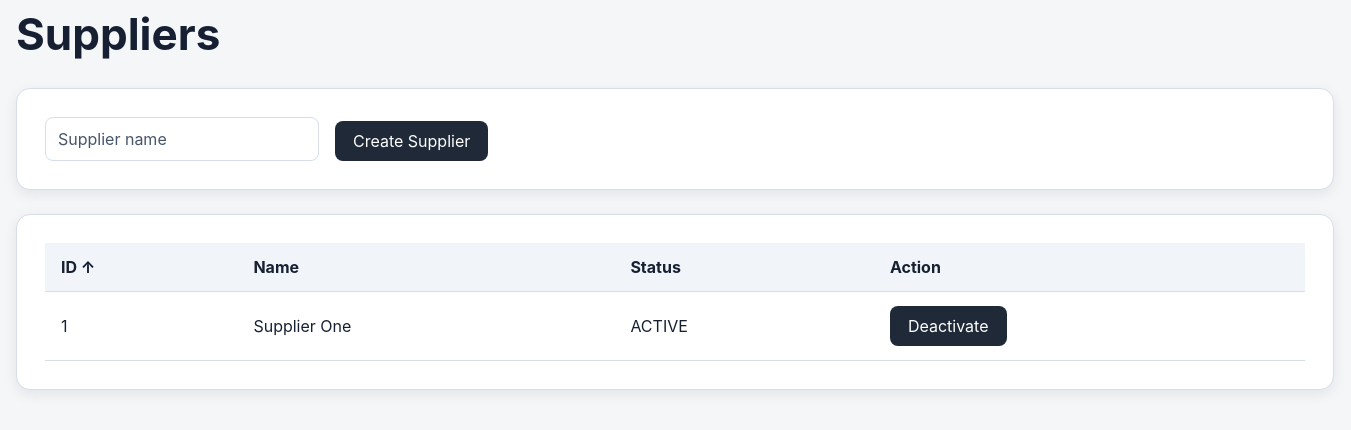
it: SuppliersPage › shows conflict error
Expected: the text "Supplier One" is shown, [237,291,614,360]
Type "Supplier One" into the field with placeholder "Supplier name". click: (182, 139)
box: [45,117,319,161]
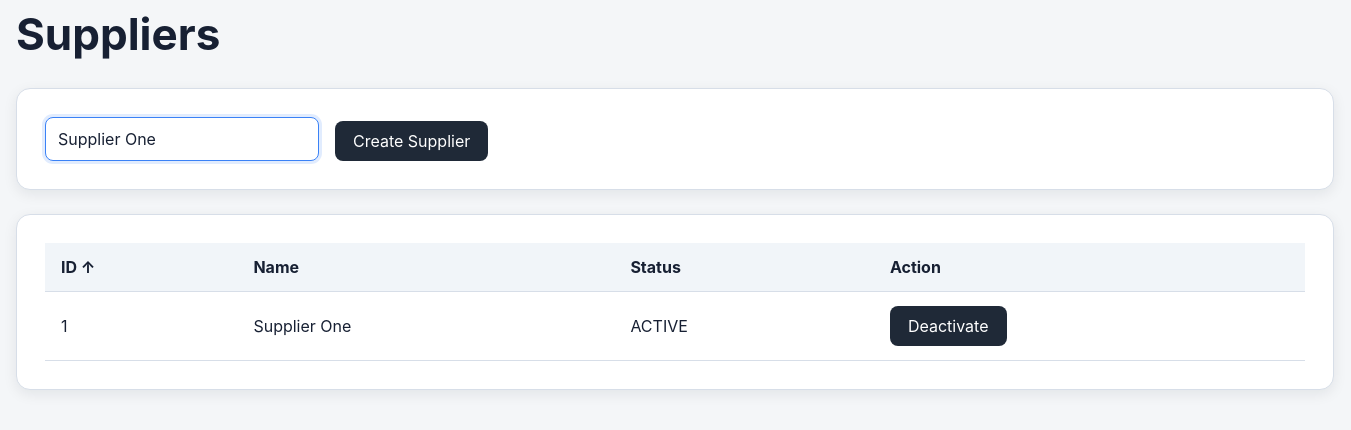
Click the button "Create Supplier". click: click(412, 141)
box: [335,121,488,161]
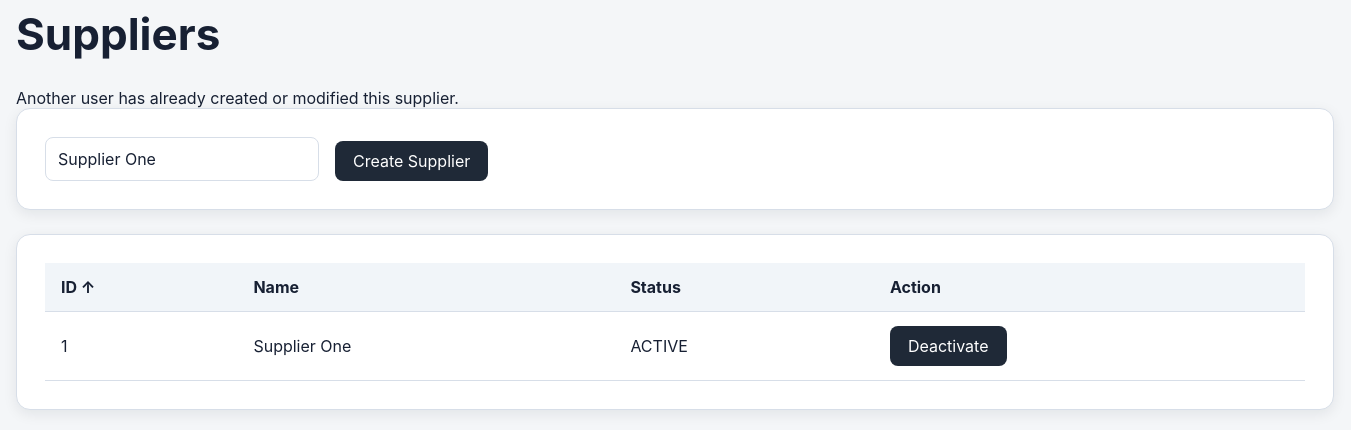
Now the text "Another user has already created or modified this supplier." is shown, box [16,88,459,108]
